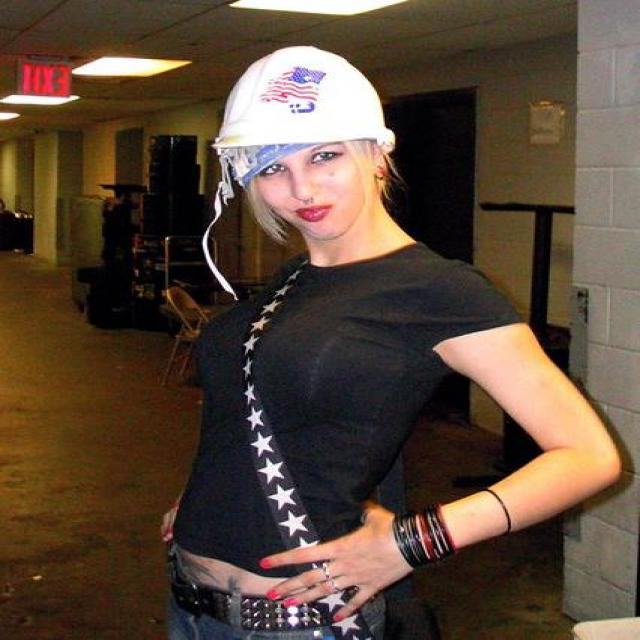Safety-Helmet: (202, 41, 402, 160)
